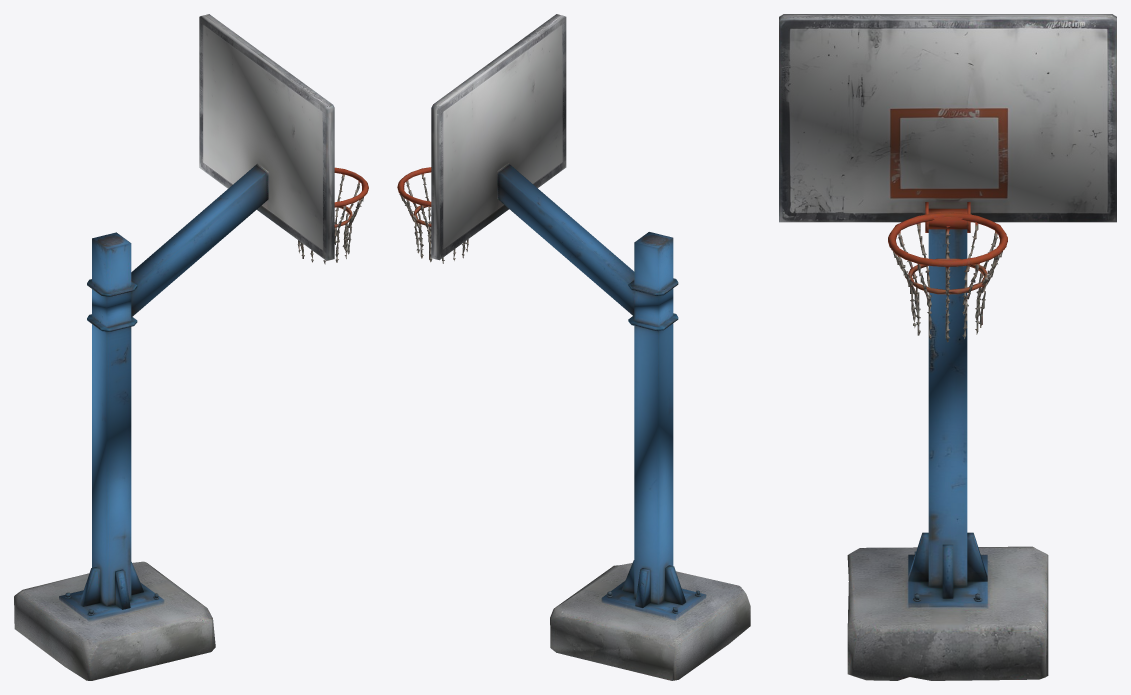
The model's file is hoop.glb.
3 views of the same model, side by side, from view 1: azimuth 30°, elevation 25°; view 2: azimuth 150°, elevation 25°; view 3: azimuth 270°, elevation 25° (orthographic). The views are drawn at different scales.
Parts seen in each view (by area): view 1: tripo_node_3db41510-dc7d-4c4a-8d22-21b7a909ee6c; view 2: tripo_node_3db41510-dc7d-4c4a-8d22-21b7a909ee6c; view 3: tripo_node_3db41510-dc7d-4c4a-8d22-21b7a909ee6c.
Boxes of the visible parts, x1,y1,x2,y2 form: tripo_node_3db41510-dc7d-4c4a-8d22-21b7a909ee6c: (14,14,368,680); tripo_node_3db41510-dc7d-4c4a-8d22-21b7a909ee6c: (397,14,750,680); tripo_node_3db41510-dc7d-4c4a-8d22-21b7a909ee6c: (779,14,1116,680).
Size of the model in its own units: 0.5996 by 0.998 by 0.4238.
1 material, 1 textured.
